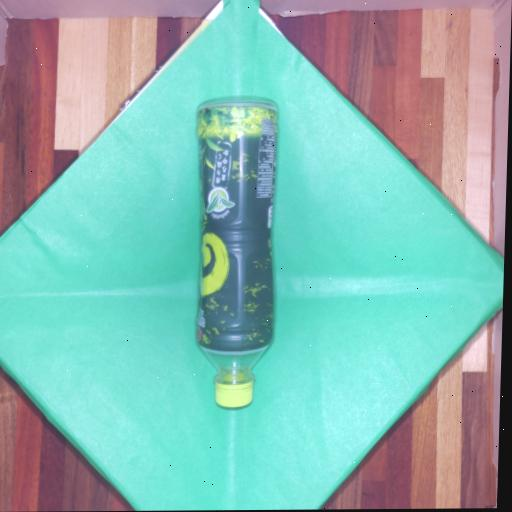bottle: (185, 97, 289, 414)
